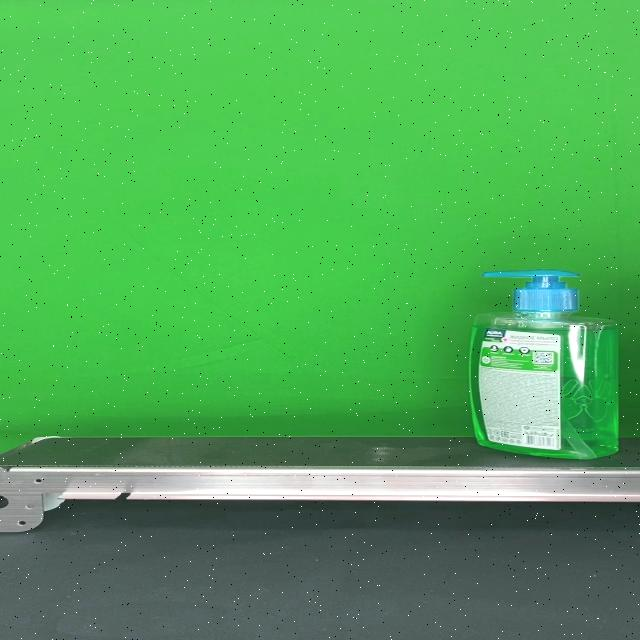Bottle: (469, 269, 618, 459)
Cap: (484, 270, 585, 312)
